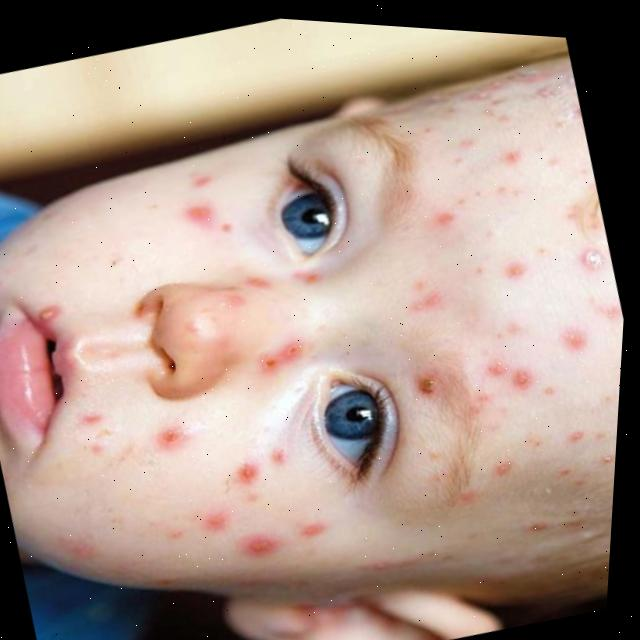Rosacea: (353, 61, 638, 515), (129, 354, 331, 599), (172, 161, 245, 234), (228, 262, 283, 303)
